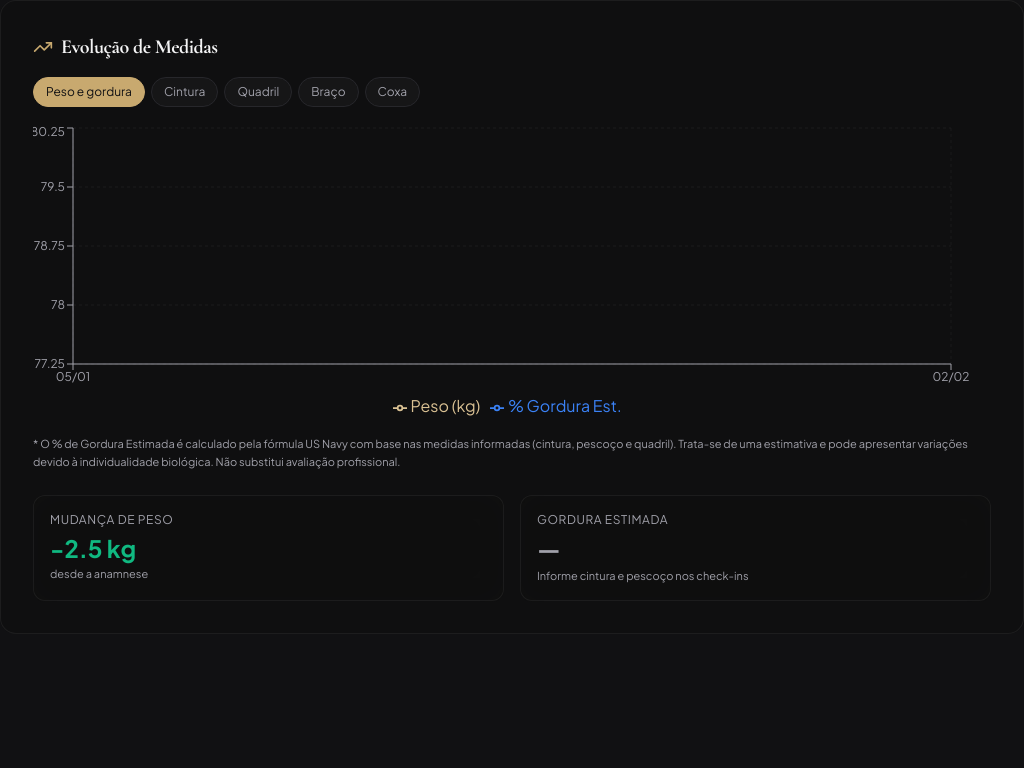
it: gráfico de evolução — medidas › medida ainda não registrada mostra aviso em vez de gráfico vazio
Click the button "Braço".
click(328, 92)  # box [298,77,359,107]
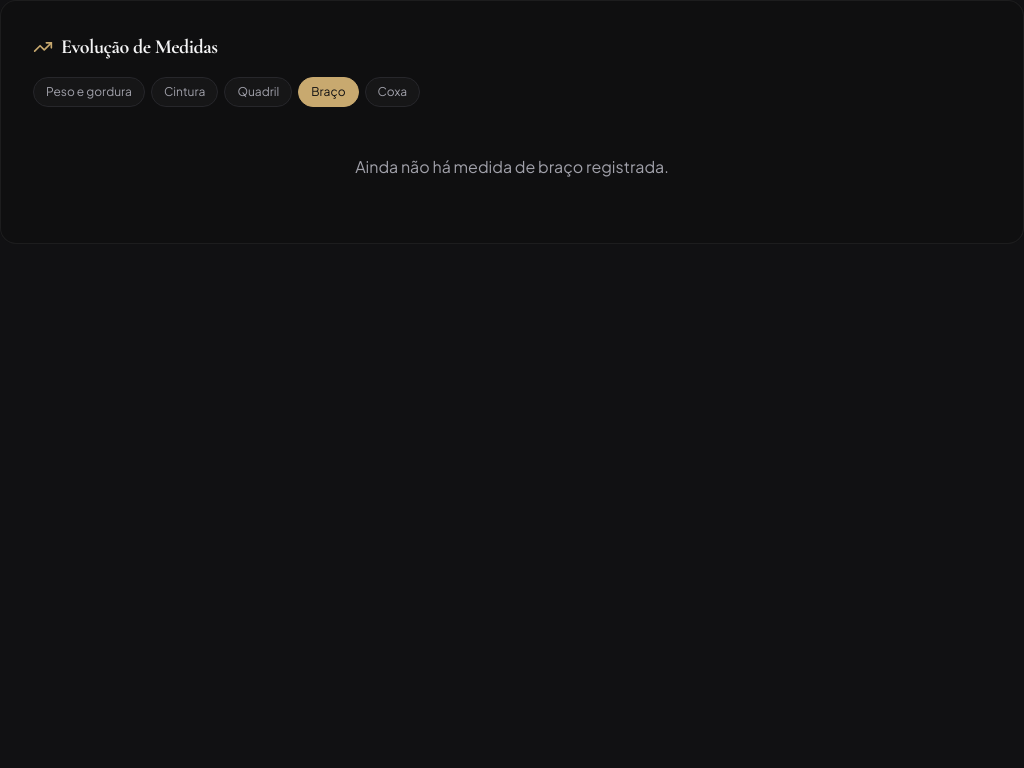
Check: the text "Ainda não há medida de braço registrada." is shown, box [355,156,669,177]
